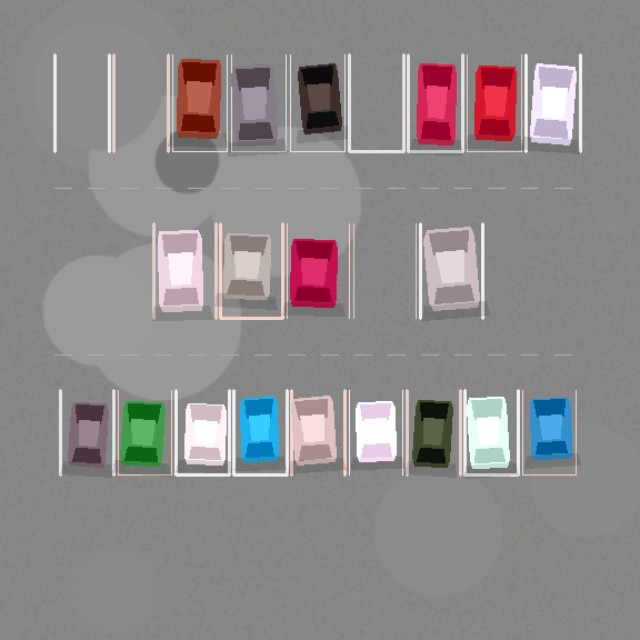space-empty: (353, 223, 416, 318), (54, 54, 109, 151), (113, 54, 168, 151), (349, 54, 403, 151)
space-occupied: (153, 223, 216, 318), (220, 223, 282, 318), (287, 223, 349, 318), (420, 223, 482, 318), (172, 54, 227, 151), (231, 54, 286, 151), (290, 54, 344, 151), (408, 54, 462, 151), (467, 54, 521, 151), (526, 54, 580, 151), (233, 390, 287, 474), (464, 390, 518, 474), (522, 390, 576, 474), (60, 390, 113, 474), (118, 390, 171, 474), (176, 390, 229, 474), (291, 390, 344, 474), (349, 390, 402, 474), (407, 390, 460, 474)
